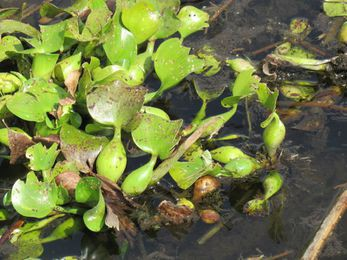water_hyacinth: (0, 1, 290, 260)
